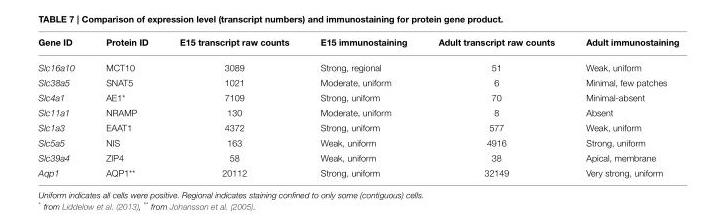table: (37, 37, 678, 177)
table column: (422, 37, 569, 177), (163, 37, 304, 177), (304, 37, 422, 177), (569, 37, 678, 177), (89, 37, 163, 177), (37, 37, 89, 177)
table column header: (37, 37, 678, 54)
table row: (37, 54, 678, 75), (37, 37, 678, 54), (37, 75, 678, 90), (37, 90, 678, 105), (37, 105, 678, 120), (37, 120, 678, 135), (37, 135, 678, 150), (37, 150, 678, 165), (37, 165, 678, 177)
